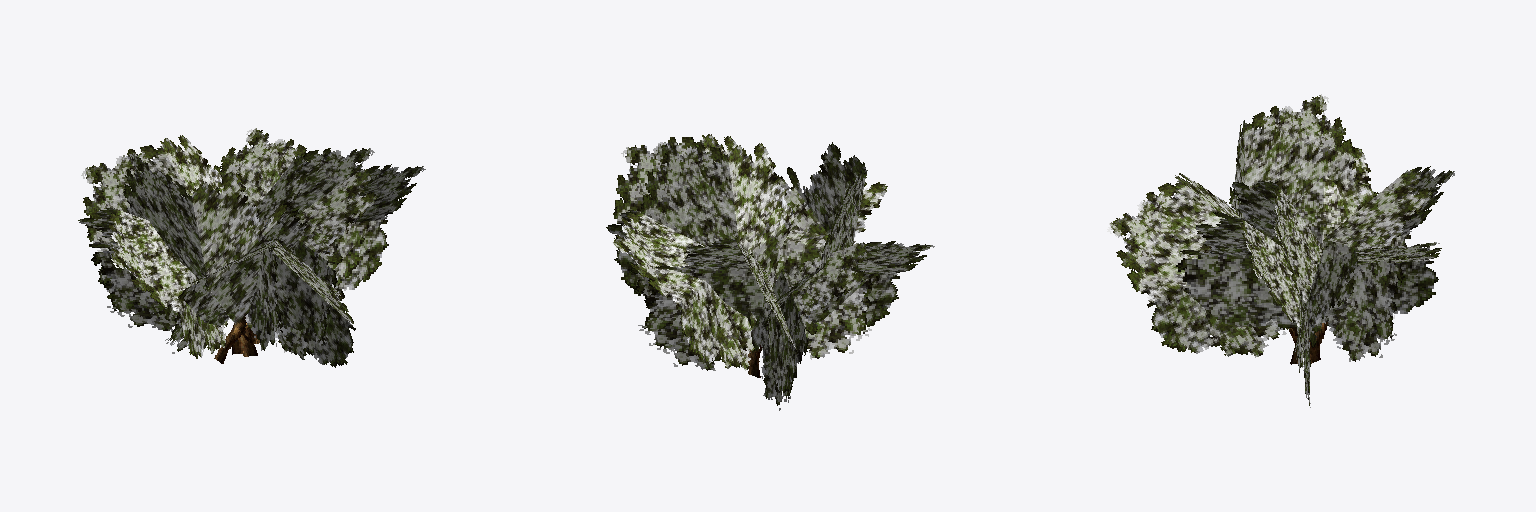
The picture shows the model from 3 angles: view 1: azimuth 30°, elevation 25°; view 2: azimuth 150°, elevation 25°; view 3: azimuth 270°, elevation 25°; orthographic projection.
Parts seen in each view (by area): view 1: mbushsno_1; view 2: mbushsno_1; view 3: mbushsno_1.
Boxes of the visible parts, x1,y1,x2,y2 form: mbushsno_1: [78, 128, 425, 367]; mbushsno_1: [606, 134, 934, 410]; mbushsno_1: [1107, 94, 1454, 407].
Bounding box in the file's own units: 4.75 × 3.87 × 4.57.
1 materials, 1 textured.